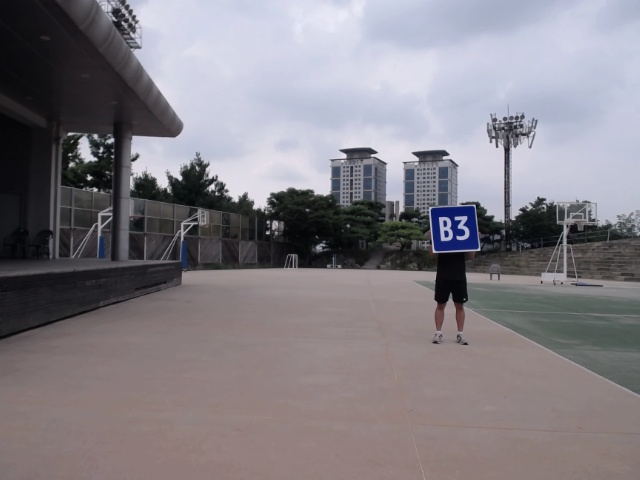delivery_b3: (428, 204, 482, 253)
